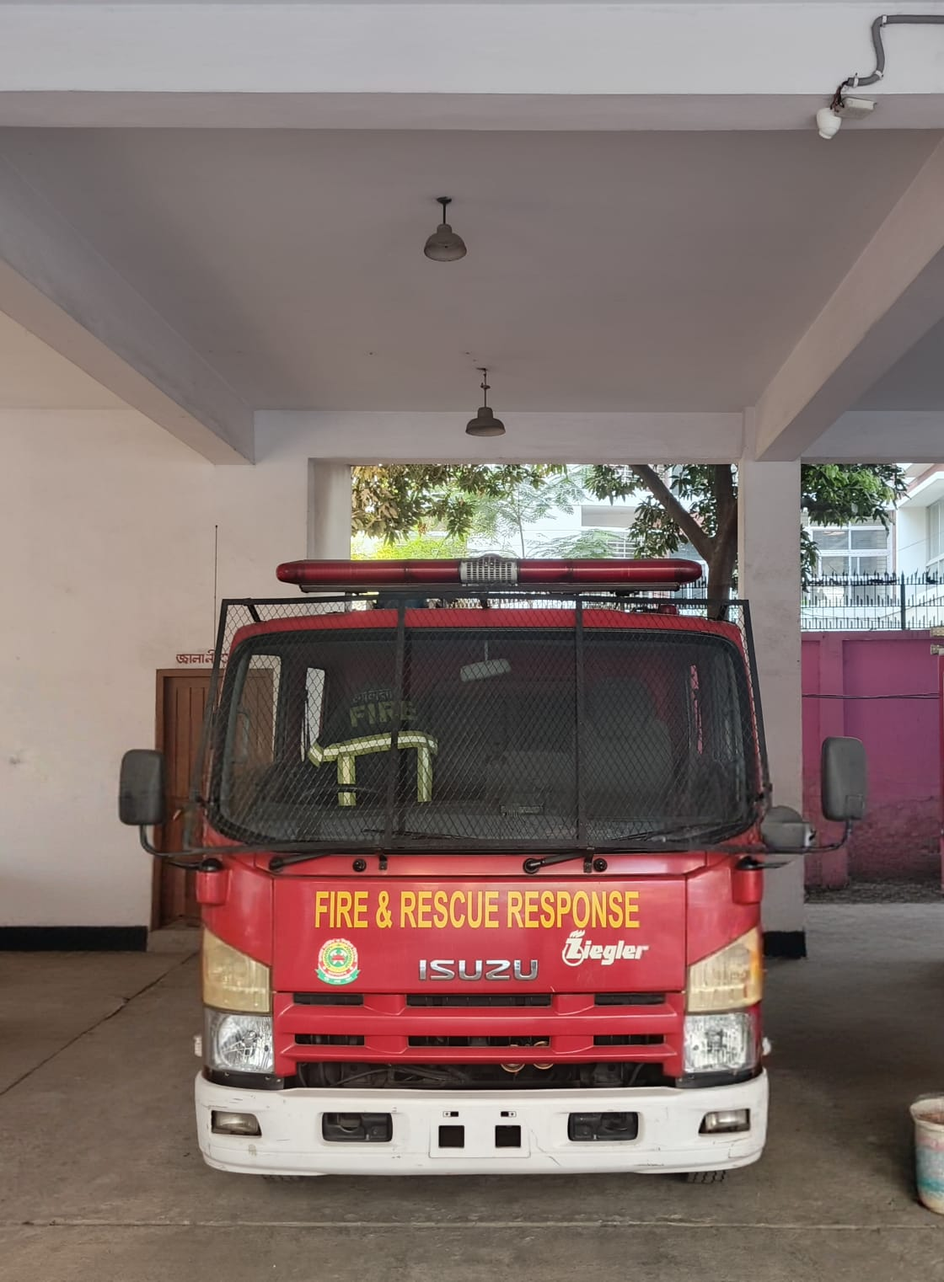Fire truck: (112, 520, 878, 1204)
